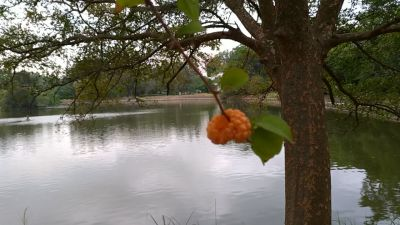eggs: (205, 109, 252, 147)
